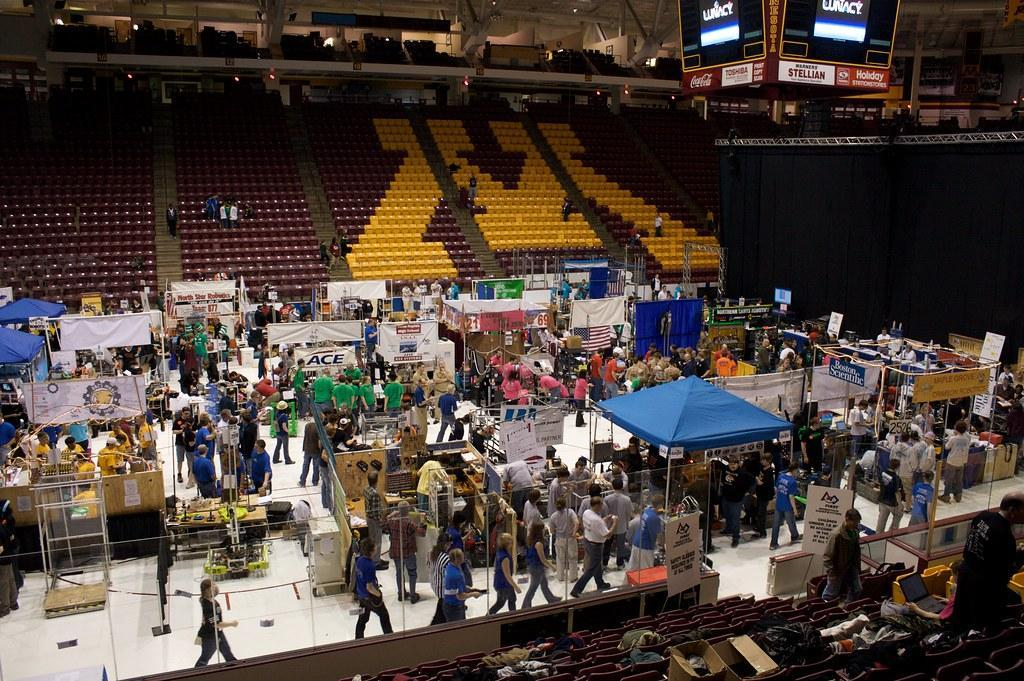robot: (203, 488, 275, 589)
